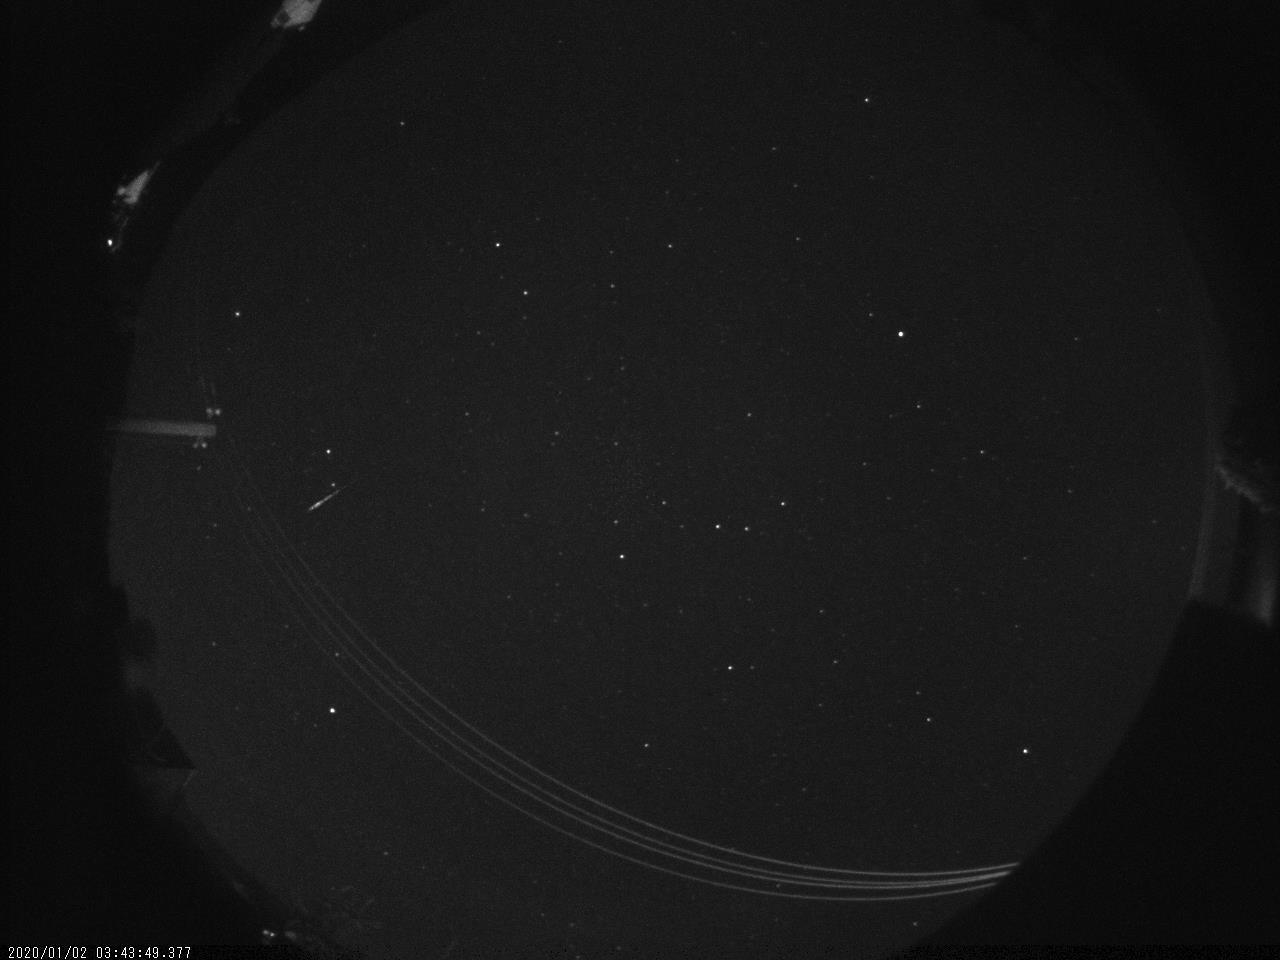Meteor: (302, 479, 352, 519)
